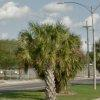Palm tree: (20, 15, 94, 99)
